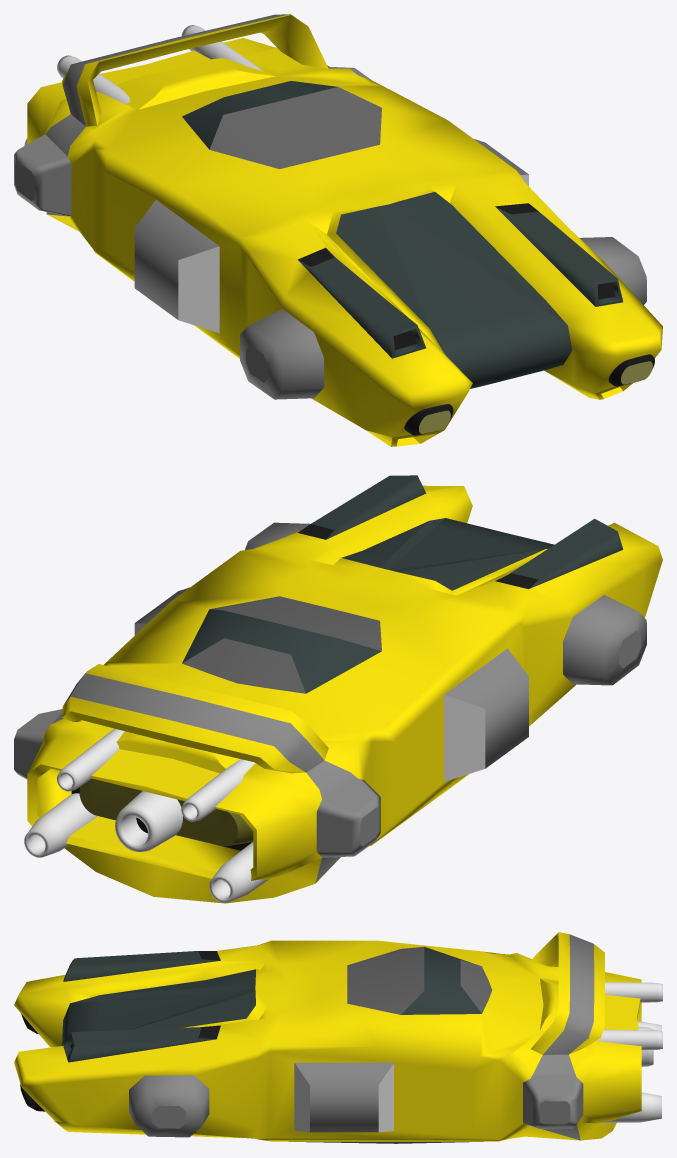
File: VOXTEKROLLERBODY.fbx
The picture shows the model from 3 angles, top to bottom: view 1: azimuth 30°, elevation 25°; view 2: azimuth 150°, elevation 25°; view 3: azimuth 270°, elevation 25°; orthographic projection. The views are drawn at different scales.
Parts seen in each view (by area): view 1: body, exhausts; view 2: body, exhausts, engine; view 3: body, exhausts.
Boxes of the visible parts, x1,y1,x2,y2 form: body: (14,14,662,446); exhausts: (24,25,262,145); body: (14,475,662,903); exhausts: (24,728,268,902); engine: (79,778,253,846); body: (14,932,641,1143); exhausts: (597,982,662,1122).
Size of the model in its own units: 542 by 249 by 1042.
